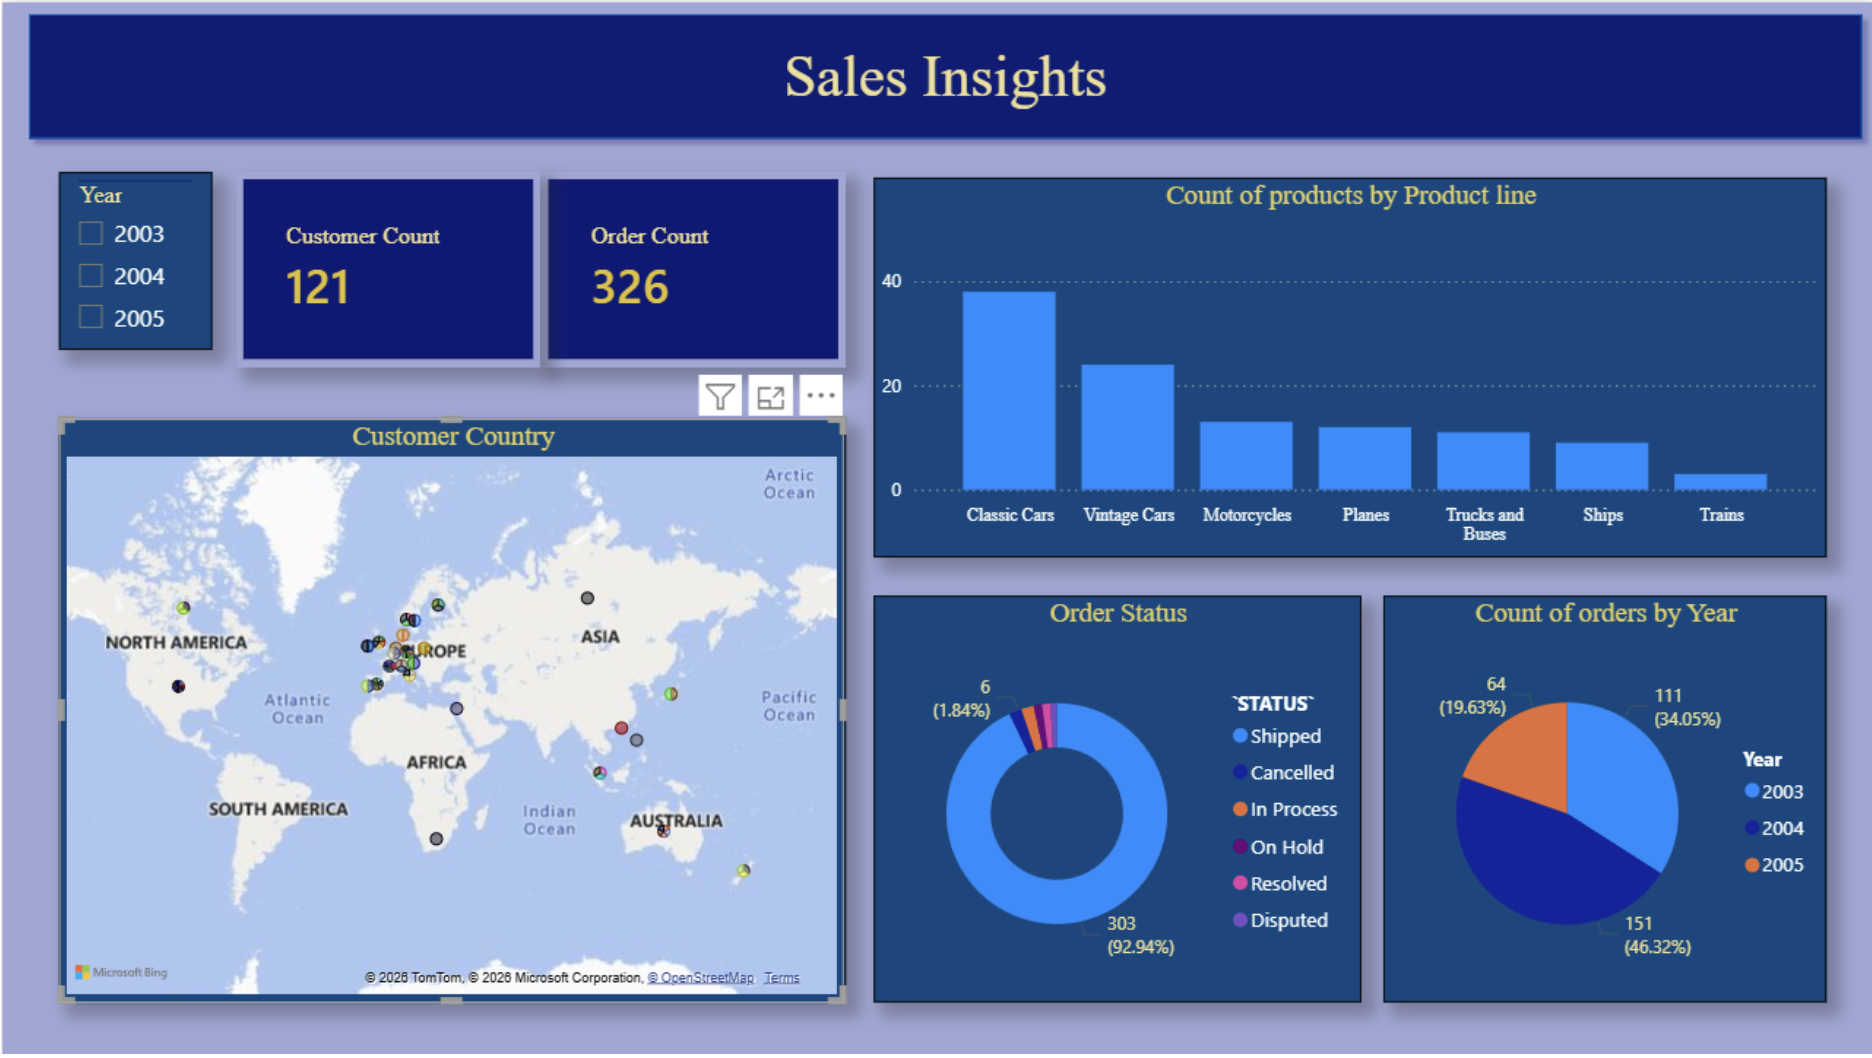

The dashboard page shown, as its layout file describes it:
{"tool":"powerbi","page":{"name":"Sales Insights","canvas":[1280,720],"ordinal":1},"visuals":[{"type":"shape","box":[9.6,0,1270.7,101.5],"z":0},{"type":"cardVisual","fields":{"Data":["CountNonNull(`ORDERS` (2).`ORDERNUMBER`)"]},"box":[368.3,116.7,208.3,133.3],"z":1000},{"type":"pieChart","title":"Count of orders by Year","fields":{"Y":["CountNonNull(`ORDERS` (2).`ORDERNUMBER`)"],"Category":["`ORDERS` (2).`ORDERDATE`.Variation.Date Hierarchy.Year"]},"box":[945,406.7,303.3,278.3],"z":2000},{"type":"donutChart","title":"Order Status","fields":{"Category":["`ORDERS` (2).`STATUS`"],"Y":["CountNonNull(`ORDERS` (2).`ORDERNUMBER`)"]},"box":[596.7,406.7,333.3,278.3],"z":3000},{"type":"clusteredColumnChart","title":"Count of products by Product line","fields":{"Category":["`PRODUCTLINES` (2).`PRODUCTLINE`"],"Y":["CountNonNull(`PRODUCTS` (2).`PRODUCTCODE`)"]},"box":[596.7,120,651.7,260],"z":4000},{"type":"slicer","fields":{"Values":["`PAYMENTS` (2).`PAYMENTDATE`.Variation.Date Hierarchy.Year"]},"box":[38.3,116.7,105,121.7],"z":5000},{"type":"cardVisual","fields":{"Data":["CountNonNull(`CUSTOMERS` (2).`CUSTOMERNUMBER`)"]},"box":[160,116.7,208.3,133.3],"z":6000},{"type":"map","title":"Customer Country","fields":{"Series":["`CUSTOMERS` (2).`CUSTOMERNUMBER`"],"Category":["`CUSTOMERS` (2).`COUNTRY`"]},"box":[38.3,285,538.3,400],"z":7000}]}

Visuals, with their boxes in screenshot pixels (x1, y1, x2, y2), scaled from the page's 1280x720 canvas onto the 1872x1058 screenshot:
shape: 14,0,1871,149
cardVisual - CountNonNull(`ORDERS` (2).`ORDERNUMBER`): 539,171,843,367
"Count of orders by Year" pieChart: 1382,598,1826,1007
"Order Status" donutChart: 873,598,1360,1007
"Count of products by Product line" clusteredColumnChart: 873,176,1826,558
slicer - `PAYMENTS` (2).`PAYMENTDATE`.Variation.Date Hierarchy.Year: 56,171,210,350
cardVisual - CountNonNull(`CUSTOMERS` (2).`CUSTOMERNUMBER`): 234,171,539,367
"Customer Country" map: 56,419,843,1007
